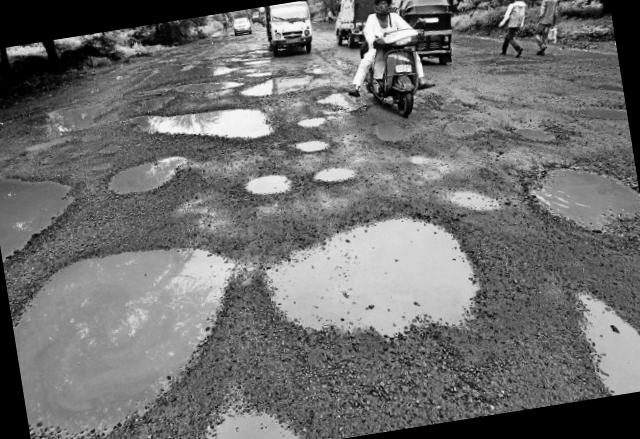Pothole: (2, 227, 250, 439), (250, 190, 491, 347), (509, 145, 640, 248), (549, 273, 640, 402), (128, 92, 278, 168), (0, 160, 75, 258), (188, 385, 308, 439), (130, 46, 246, 92), (106, 150, 190, 200), (294, 86, 382, 132), (42, 94, 114, 140), (245, 70, 322, 102), (438, 182, 498, 222), (178, 70, 246, 104), (240, 165, 294, 205), (366, 113, 419, 148), (312, 160, 360, 188), (439, 115, 484, 144), (567, 105, 627, 126), (512, 122, 557, 147), (288, 136, 335, 155), (130, 94, 174, 114), (434, 98, 472, 116), (39, 152, 80, 168), (88, 158, 117, 178), (97, 138, 123, 156)
